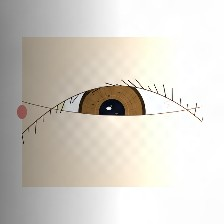pinguecula_lesion: (33, 89, 76, 123)
